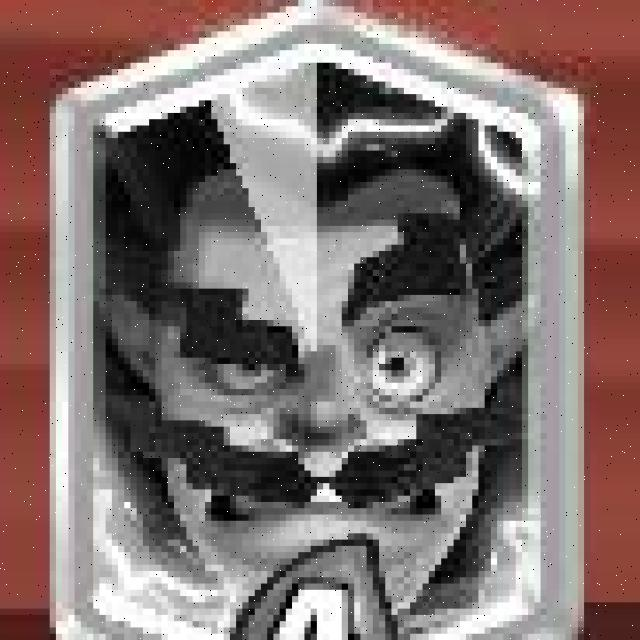Electro_Wizard: (52, 7, 581, 640)
